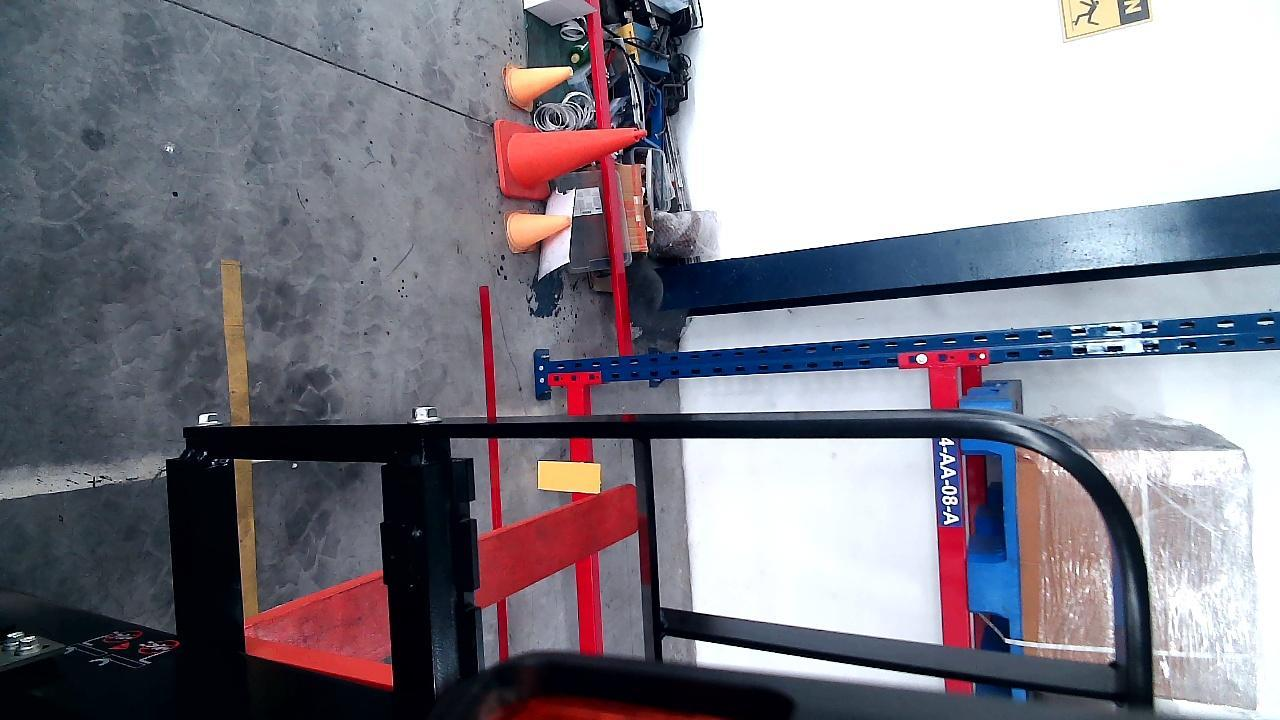red_line: (476, 288, 514, 660)
yellow_line: (222, 252, 260, 621)
